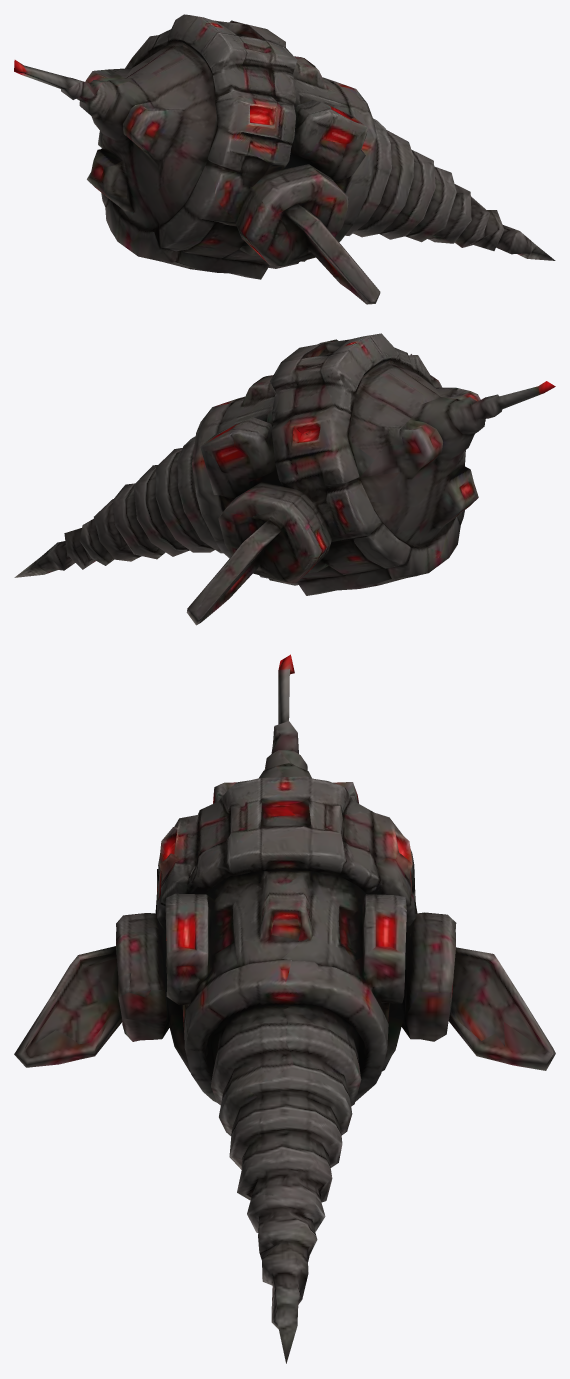
The model's file is drill.glb.
3 views of the same model, one above another, from view 1: azimuth 30°, elevation 25°; view 2: azimuth 150°, elevation 25°; view 3: azimuth 270°, elevation 25° (orthographic). The views are drawn at different scales.
Parts seen in each view (by area): view 1: tripo_node_2e49b63e-bd77-49f5-8588-daa55448d817; view 2: tripo_node_2e49b63e-bd77-49f5-8588-daa55448d817; view 3: tripo_node_2e49b63e-bd77-49f5-8588-daa55448d817.
Boxes of the visible parts, bbox=[...] form: tripo_node_2e49b63e-bd77-49f5-8588-daa55448d817: bbox=[14, 14, 555, 304]; tripo_node_2e49b63e-bd77-49f5-8588-daa55448d817: bbox=[14, 333, 555, 625]; tripo_node_2e49b63e-bd77-49f5-8588-daa55448d817: bbox=[14, 654, 555, 1363].
Size of the model in its own units: 0.9845 by 0.5734 by 0.7114.
1 material, 1 textured.
